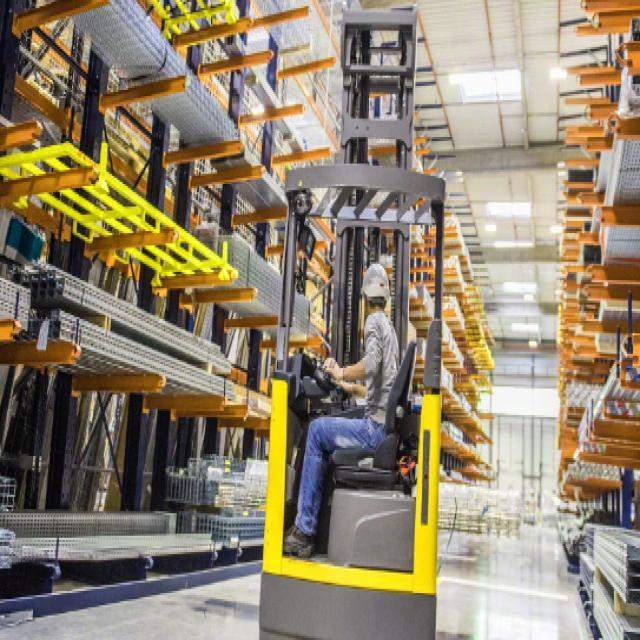boots: (280, 522, 323, 563)
helmet: (356, 257, 390, 307)
